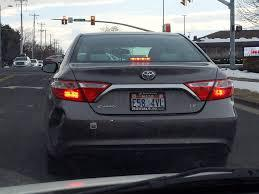rear-bumper-dent: (35, 100, 114, 166)
